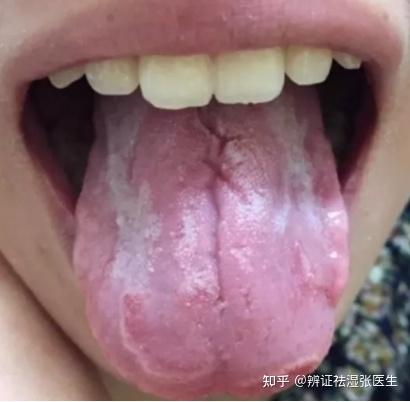baitaishe: (74, 110, 350, 398)
botaishe: (123, 139, 192, 297)
liewenshe: (194, 117, 246, 311)
